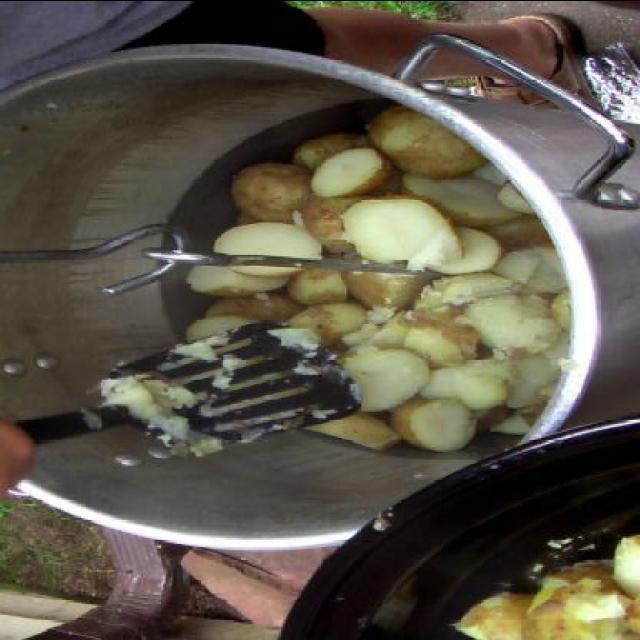Potato: (183, 102, 575, 452), (455, 532, 639, 640), (368, 104, 492, 182), (226, 158, 308, 216)
